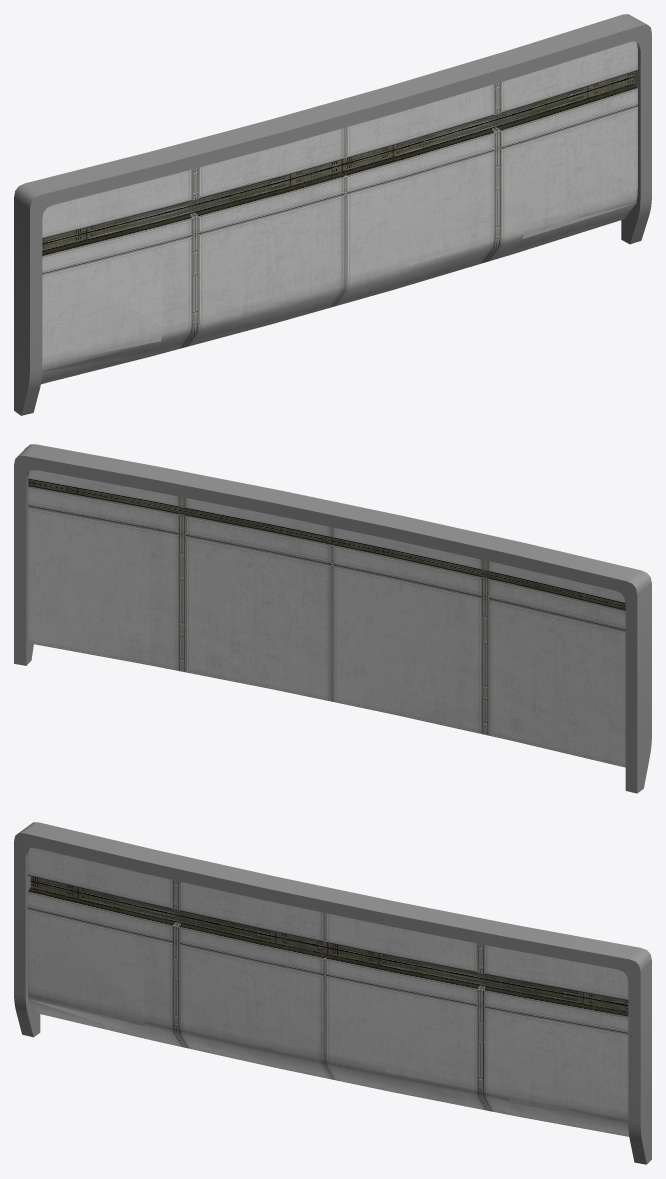
The model's file is Club_Viewblock_02.FBX.
The picture shows the model from 3 angles, top to bottom: view 1: azimuth 30°, elevation 25°; view 2: azimuth 150°, elevation 25°; view 3: azimuth 330°, elevation 25°; orthographic projection. The views are drawn at different scales.
Visible parts, largest first — view 1: Club_Viewblock_02; view 2: Club_Viewblock_02; view 3: Club_Viewblock_02.
Part boxes in pixels (x1,y1,x2,y2): Club_Viewblock_02: (14,14,651,415); Club_Viewblock_02: (14,444,651,793); Club_Viewblock_02: (14,822,651,1164).
Bounding box in the file's own units: 7.02 × 2.33 × 0.7567.
